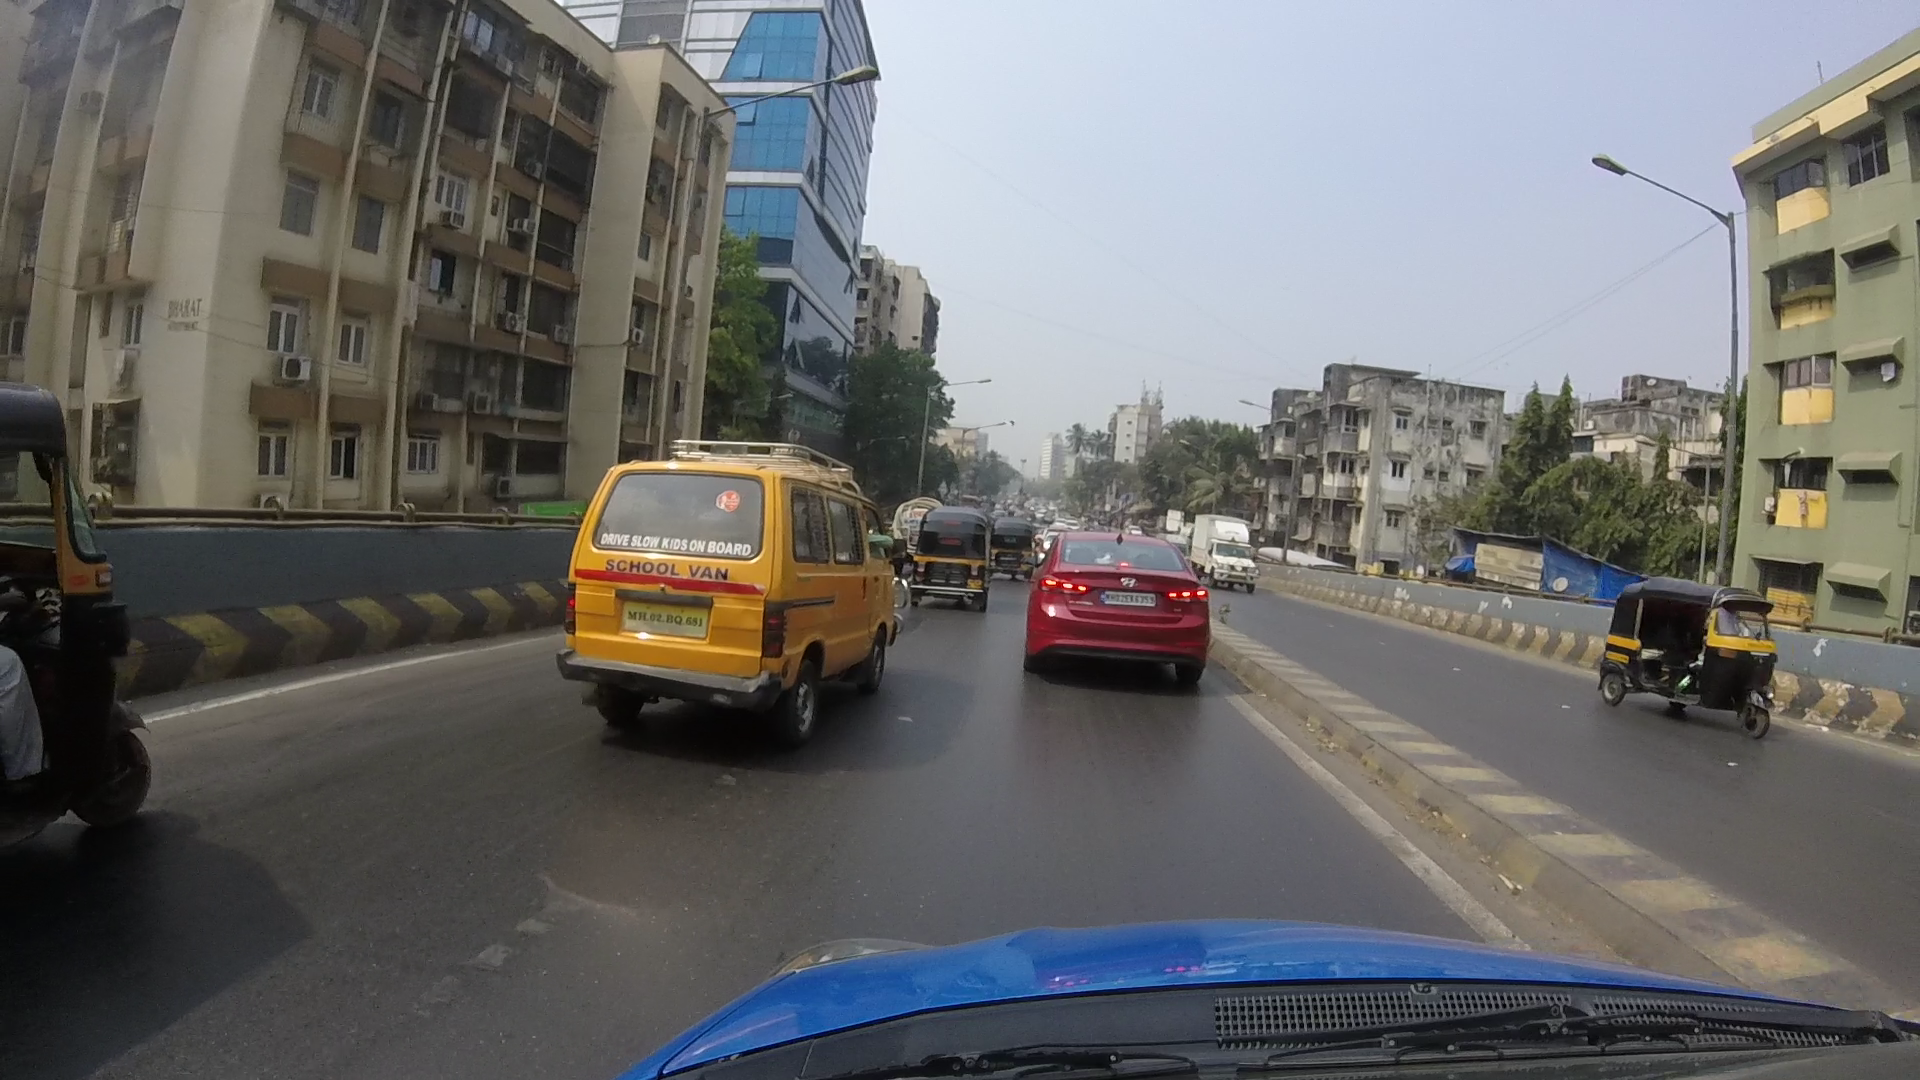car: (539, 407, 901, 731), (1030, 516, 1236, 692)
rickshaw: (4, 367, 179, 848), (1577, 545, 1789, 742), (907, 498, 998, 632)
